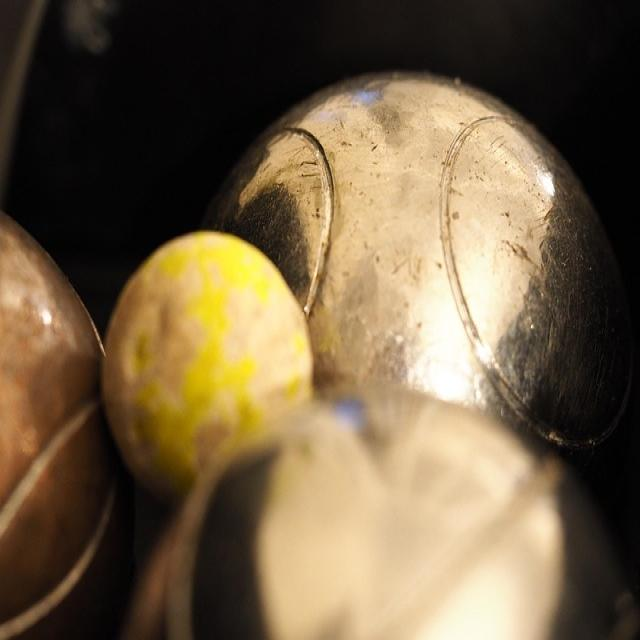hatball: (95, 229, 318, 500)
petanque: (202, 66, 638, 494), (116, 393, 639, 639), (0, 208, 139, 639)
